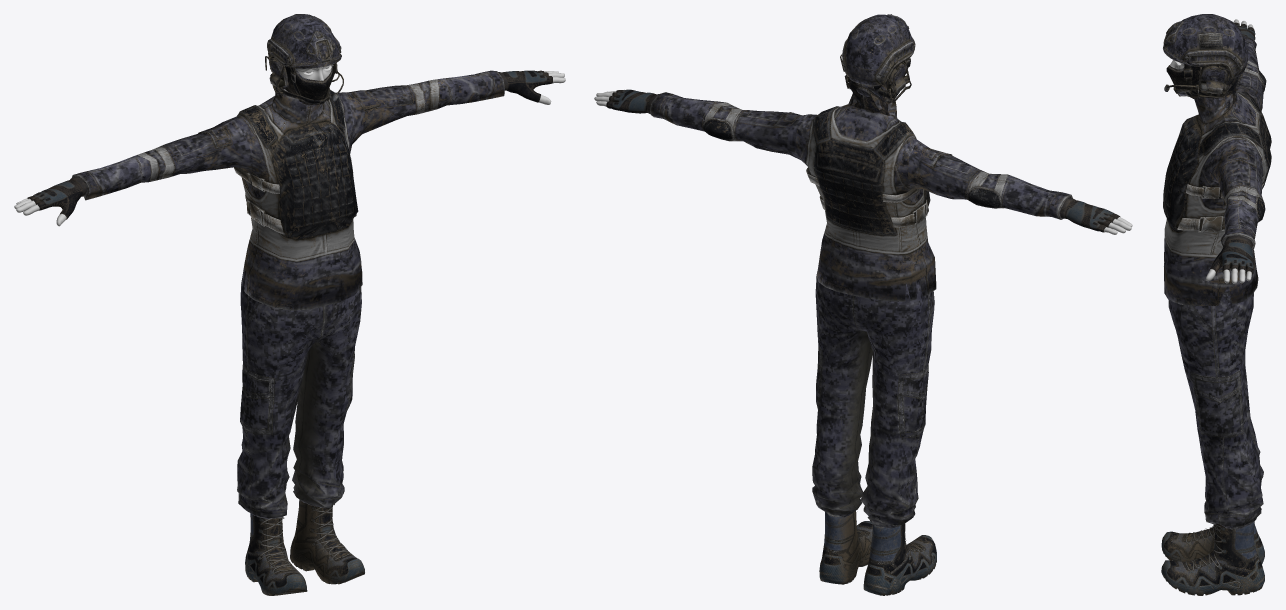
File: Nine-Tailed Fox 2.obj
3 renders of one model, left to right at view 1: azimuth 30°, elevation 25°; view 2: azimuth 150°, elevation 25°; view 3: azimuth 270°, elevation 25°, orthographic. The views are drawn at different scales.
Parts seen in each view (by area): view 1: Tops, Bottoms, Shoes, Hats, Gloves, Body, Masks; view 2: Tops, Bottoms, Shoes, Hats, Gloves, Masks; view 3: Tops, Bottoms, Shoes, Hats, Gloves, Masks, Body.
Boxes of the visible parts, x1=… form: Tops: x1=72, y1=70, x2=504, y2=310; Bottoms: x1=237, y1=257, x2=361, y2=518; Shoes: x1=245, y1=499, x2=364, y2=595; Hats: x1=265, y1=14, x2=343, y2=104; Gloves: x1=27, y1=70, x2=552, y2=219; Body: x1=14, y1=65, x2=565, y2=226; Masks: x1=272, y1=57, x2=332, y2=105; Tops: x1=650, y1=92, x2=1072, y2=301; Bottoms: x1=812, y1=266, x2=934, y2=528; Shoes: x1=819, y1=509, x2=936, y2=595; Hats: x1=840, y1=14, x2=915, y2=100; Gloves: x1=606, y1=89, x2=1120, y2=232; Masks: x1=849, y1=61, x2=904, y2=115; Tops: x1=1163, y1=35, x2=1271, y2=305; Bottoms: x1=1168, y1=286, x2=1263, y2=529; Shoes: x1=1161, y1=521, x2=1264, y2=595; Hats: x1=1163, y1=14, x2=1247, y2=98; Gloves: x1=1209, y1=22, x2=1255, y2=274; Masks: x1=1166, y1=65, x2=1240, y2=111; Body: x1=1170, y1=19, x2=1253, y2=283.
Size of the model in its own units: 187 by 184 by 32.98.
